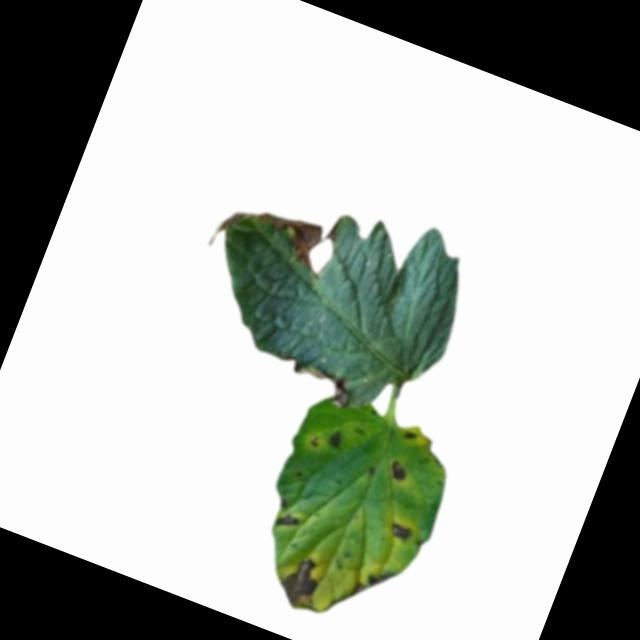Early_blight: (199, 178, 345, 289), (272, 549, 337, 619), (293, 357, 358, 411), (364, 564, 397, 594), (271, 510, 304, 535), (385, 457, 410, 485), (385, 520, 412, 544), (321, 427, 345, 453), (400, 430, 418, 446)
